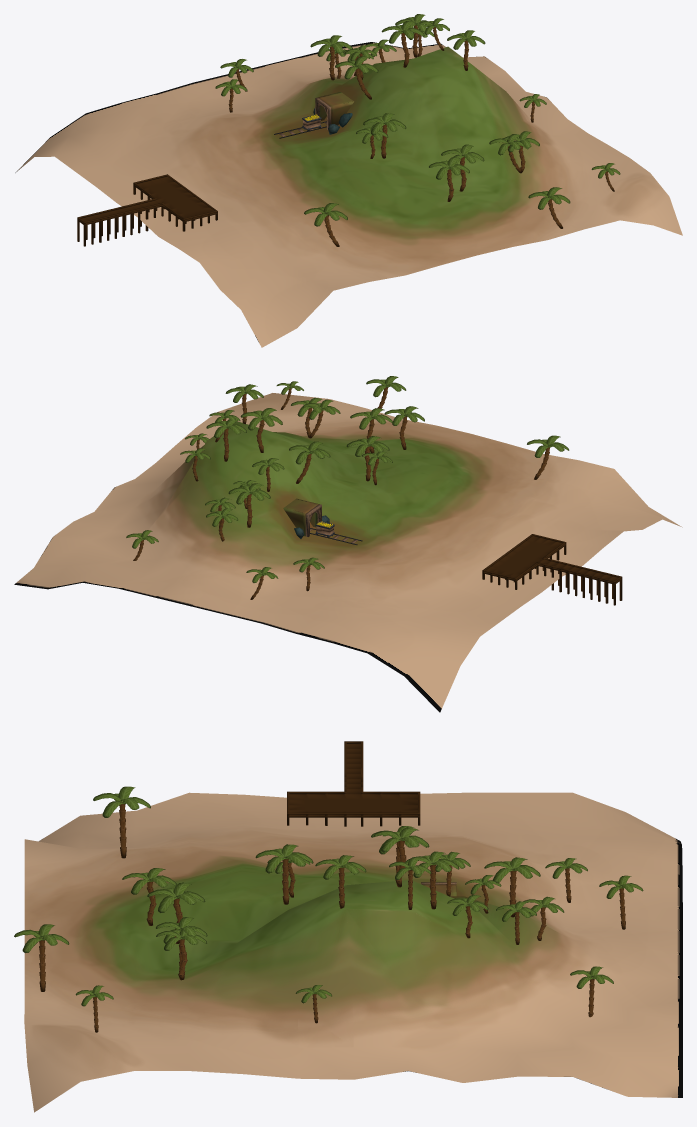
File: island3.fbx
The picture shows the model from 3 angles, top to bottom: view 1: azimuth 30°, elevation 25°; view 2: azimuth 150°, elevation 25°; view 3: azimuth 270°, elevation 25°; orthographic projection. The views are drawn at different scales.
Visible parts, largest first — view 1: Island3; view 2: Island3; view 3: Island3.
Boxes of the visible parts, x1,y1,x2,y2 form: Island3: [15, 14, 682, 347]; Island3: [14, 376, 682, 712]; Island3: [14, 741, 682, 1112].
Size of the model in its own units: 1453 by 442 by 1304.
